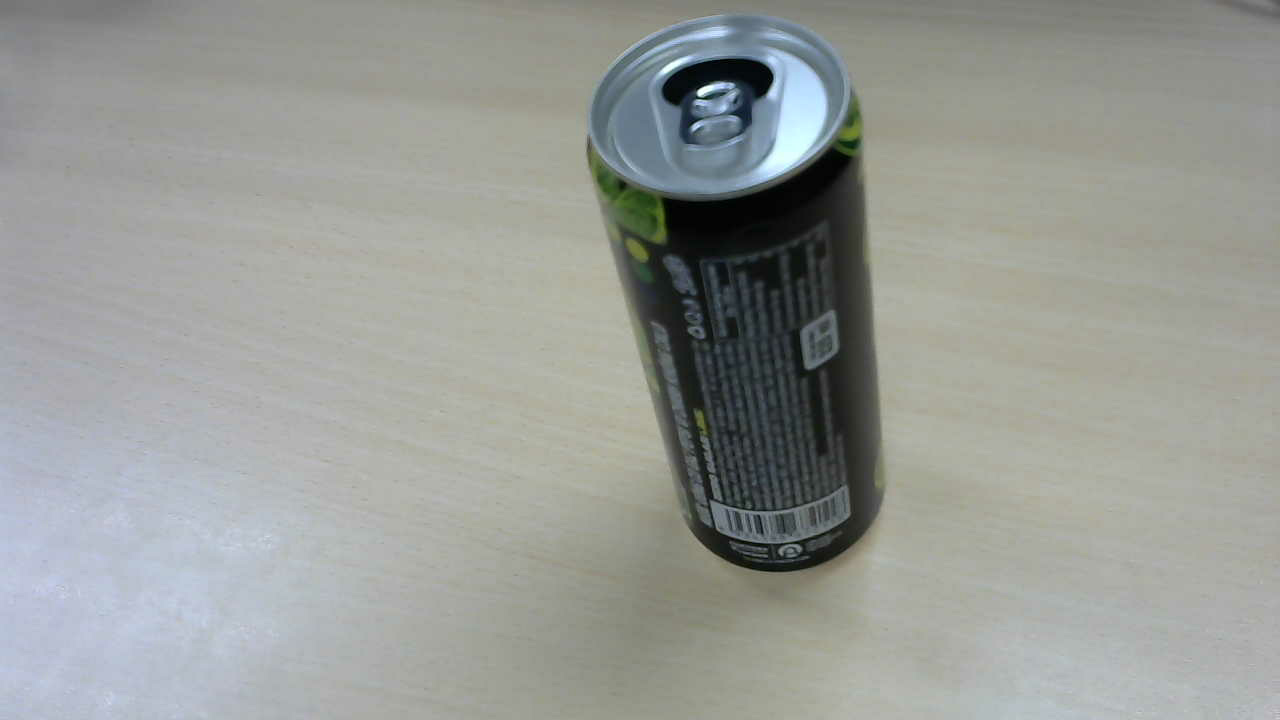Pepsi: (591, 18, 896, 576)
